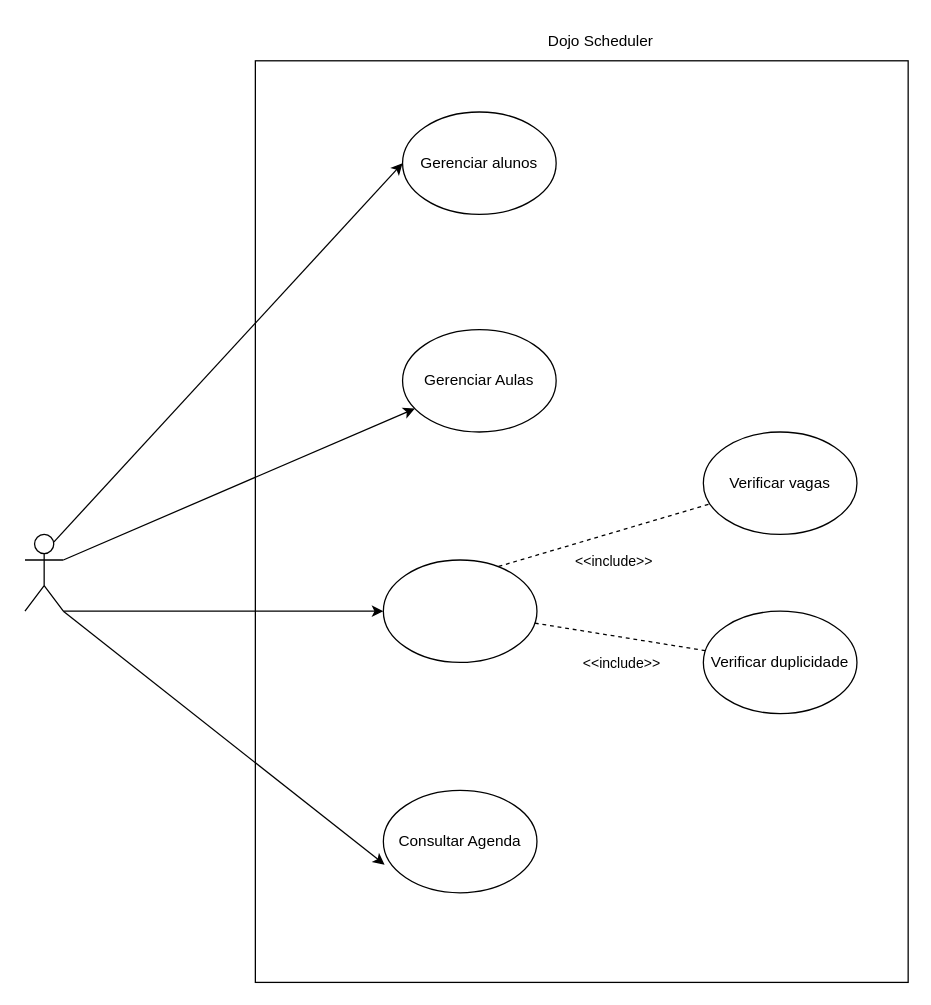
The diagram is 931 pixels wide and 1005 high, and some of its shapes have lost their labels. The shapes that lost their labels are listed below. From the top down, each one's centre as x and y in pixels, then its label:
At [43,572]: "Admin".
At [459,610]: "Realizar matricula".
